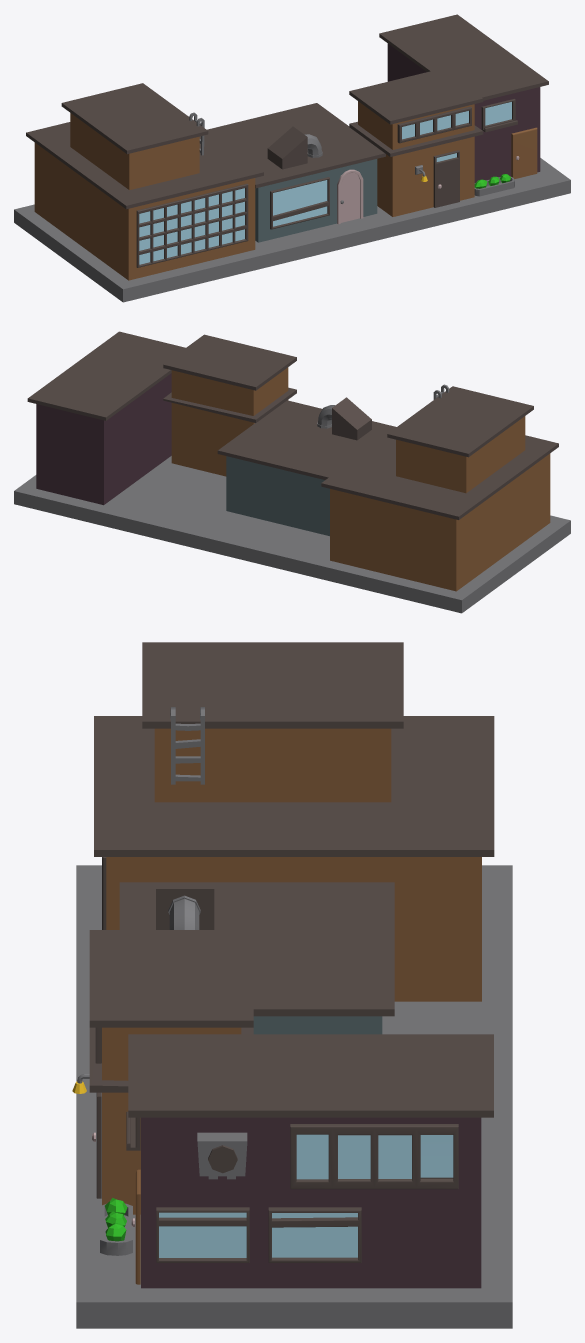
Rendered from Block_5.fbx.
3 renders of one model, top to bottom at view 1: azimuth 30°, elevation 25°; view 2: azimuth 150°, elevation 25°; view 3: azimuth 270°, elevation 25°, orthographic. The views are drawn at different scales.
Parts seen in each view (by area): view 1: Block_5:polySurface159polySurface191, Block_5:polySurface159polySurface170, Block_5:polySurface159polySurface184, Block_5:polySurface159polySurface188, Block_5:polySurface159polySurface186, Block_5:polySurface159polySurface190, Block_5:polySurface159polySurface163, Block_5:polySurface160polySurface159, Block_5:polySurface159polySurface181, Block_5:polySurface159polySurface167, Block_5:polySurface159polySurface161, Block_5:polySurface159polySurface172 (+4 smaller); view 2: Block_5:polySurface159polySurface191, Block_5:polySurface159polySurface170, Block_5:polySurface159polySurface184, Block_5:polySurface159polySurface186, Block_5:polySurface159polySurface188, Block_5:polySurface159polySurface163, Block_5:polySurface160polySurface159, Block_5:polySurface159polySurface185; view 3: Block_5:polySurface159polySurface184, Block_5:polySurface159polySurface191, Block_5:polySurface159polySurface170, Block_5:polySurface159polySurface188, Block_5:polySurface159polySurface186, Block_5:polySurface159polySurface163, Block_5:polySurface159polySurface177, Block_5:polySurface159polySurface174, Block_5:polySurface159polySurface176, Block_5:polySurface160polySurface159, Block_5:polySurface159polySurface169, Block_5:polySurface159polySurface189 (+3 smaller).
Boxes of the visible parts, x1=… form: Block_5:polySurface159polySurface191: x1=26, y1=122, x2=263, y2=280; Block_5:polySurface159polySurface170: x1=14, y1=158, x2=570, y2=302; Block_5:polySurface159polySurface184: x1=379, y1=14, x2=548, y2=182; Block_5:polySurface159polySurface188: x1=61, y1=83, x2=208, y2=190; Block_5:polySurface159polySurface186: x1=207, y1=103, x2=385, y2=242; Block_5:polySurface159polySurface190: x1=136, y1=183, x2=248, y2=267; Block_5:polySurface159polySurface163: x1=349, y1=68, x2=483, y2=149; Block_5:polySurface160polySurface159: x1=349, y1=121, x2=483, y2=216; Block_5:polySurface159polySurface181: x1=270, y1=177, x2=329, y2=229; Block_5:polySurface159polySurface167: x1=397, y1=106, x2=471, y2=143; Block_5:polySurface159polySurface161: x1=433, y1=150, x2=459, y2=207; Block_5:polySurface159polySurface172: x1=337, y1=169, x2=363, y2=224; Block_5:polySurface159polySurface191: x1=321, y1=435, x2=558, y2=591; Block_5:polySurface159polySurface170: x1=14, y1=456, x2=570, y2=613; Block_5:polySurface159polySurface184: x1=27, y1=331, x2=185, y2=505; Block_5:polySurface159polySurface186: x1=217, y1=400, x2=396, y2=536; Block_5:polySurface159polySurface188: x1=387, y1=386, x2=533, y2=493; Block_5:polySurface159polySurface163: x1=163, y1=334, x2=296, y2=415; Block_5:polySurface160polySurface159: x1=163, y1=387, x2=296, y2=476; Block_5:polySurface159polySurface185: x1=332, y1=397, x2=371, y2=440; Block_5:polySurface159polySurface184: x1=128, y1=1034, x2=493, y2=1288; Block_5:polySurface159polySurface191: x1=94, y1=716, x2=494, y2=1001; Block_5:polySurface159polySurface170: x1=76, y1=865, x2=512, y2=1328; Block_5:polySurface159polySurface188: x1=142, y1=642, x2=403, y2=802; Block_5:polySurface159polySurface186: x1=119, y1=882, x2=394, y2=1034; Block_5:polySurface159polySurface163: x1=89, y1=930, x2=253, y2=1080; Block_5:polySurface159polySurface177: x1=290, y1=1124, x2=458, y2=1189; Block_5:polySurface159polySurface174: x1=268, y1=1207, x2=361, y2=1262; Block_5:polySurface159polySurface176: x1=156, y1=1207, x2=249, y2=1262; Block_5:polySurface160polySurface159: x1=89, y1=1027, x2=253, y2=1214; Block_5:polySurface159polySurface169: x1=197, y1=1132, x2=247, y2=1179; Block_5:polySurface159polySurface189: x1=170, y1=707, x2=204, y2=784.
Bounding box in the file's own units: 710 × 214 × 302.
